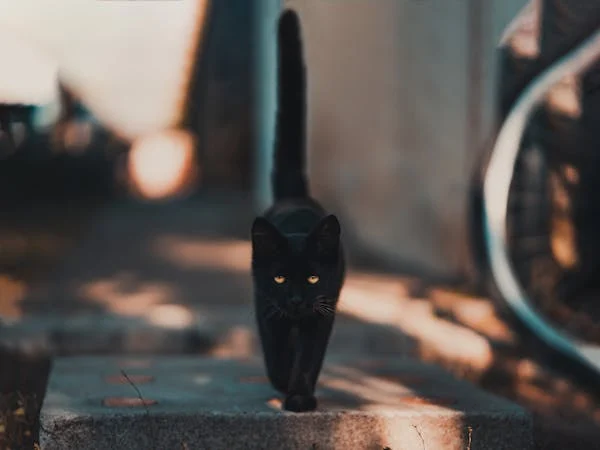Cat: (253, 10, 348, 412)
